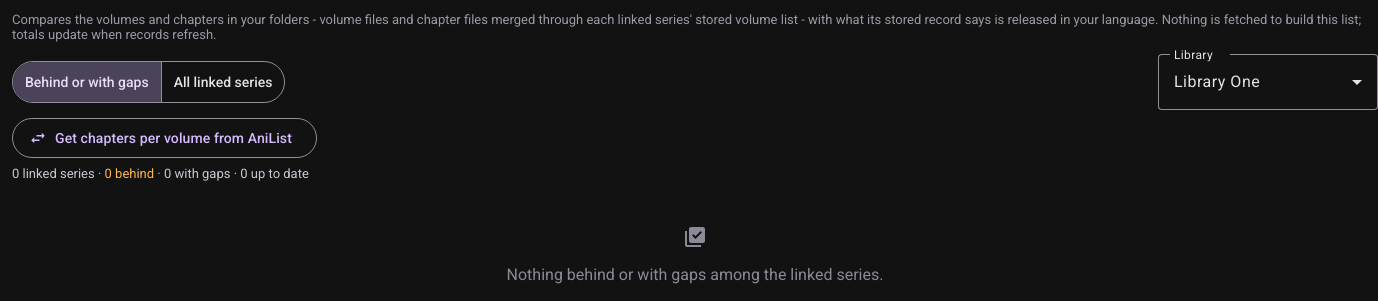
it: MissingReportComponent › runs the batch for the selected library and reloads
Step 1. Click the button with test id "missing-convert-batch" → x=164, y=138, box top-left (12, 118), bottom-right (317, 158)
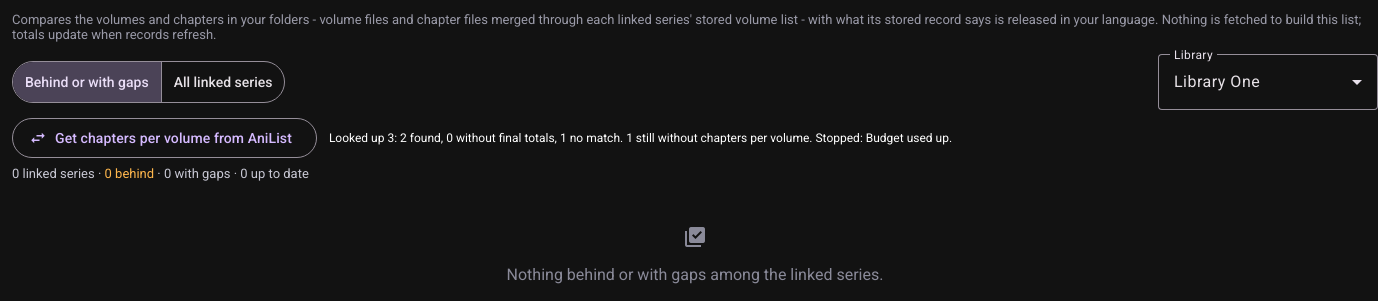
Expected: the message with test id "missing-convert-result" shows "Looked up 3: 2 found, 0 without final totals, 1 no match. 1 still without chapters per volume. Stopped: Budget used up.", top-left (329, 131), bottom-right (952, 145)
